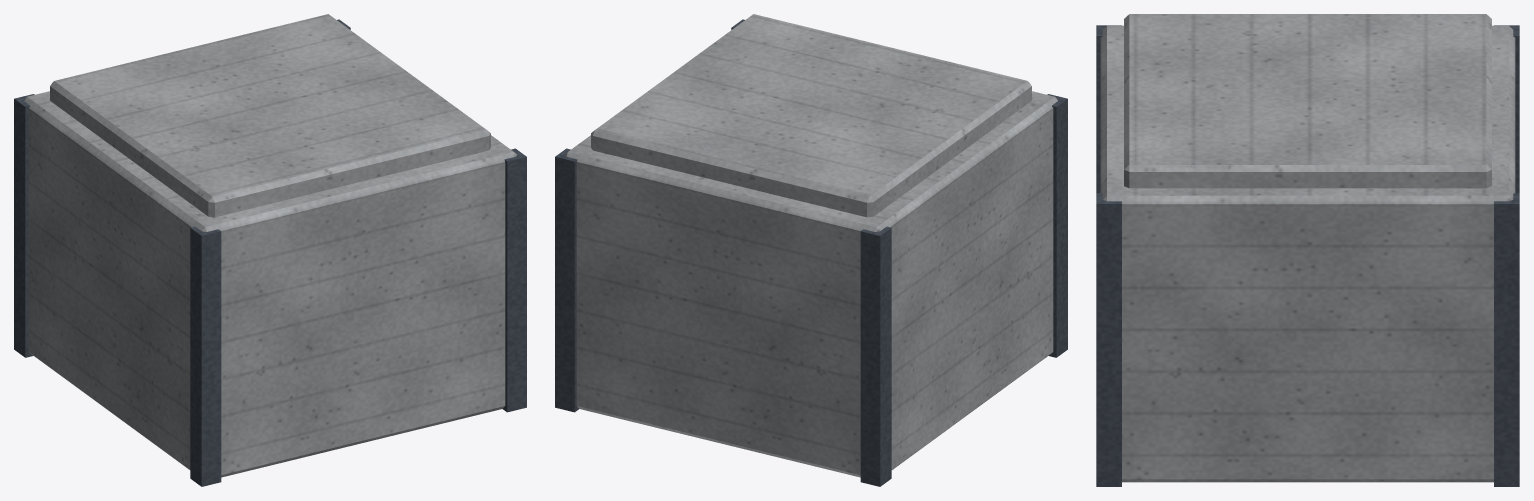
File: concrete.glb
The picture shows the model from 3 angles, left to right: view 1: azimuth 30°, elevation 25°; view 2: azimuth 150°, elevation 25°; view 3: azimuth 270°, elevation 25°; orthographic projection. The views are drawn at different scales.
Parts seen in each view (by area): view 1: CONCRETE_HP_4, CONCRETE_C_HP_3, CONCRETE_L_HP_1, CONCRETE_HP_2, CONCRETE_HP_3, CONCRETE_O_HP_2, CONCRETE_HP_1, CONCRETE_L_HP_2, CONCRETE_C_HP_1, CONCRETE_C_HP_2, CONCRETE_O_HP_1; view 2: CONCRETE_HP_4, CONCRETE_L_HP_1, CONCRETE_HP_2, CONCRETE_O_HP_2, CONCRETE_C_HP_1, CONCRETE_HP_3, CONCRETE_L_HP_2, CONCRETE_C_HP_3, CONCRETE_HP_1, CONCRETE_O_HP_1, CONCRETE_C_HP_2; view 3: CONCRETE_HP_4, CONCRETE_HP_3, CONCRETE_HP_2, CONCRETE_L_HP_2, CONCRETE_C_HP_3, CONCRETE_O_HP_2, CONCRETE_HP_1, CONCRETE_L_HP_1, CONCRETE_O_HP_1, CONCRETE_C_HP_1, CONCRETE_C_HP_2.
Part boxes in pixels (x1=…): CONCRETE_HP_4: x1=14, y1=14, x2=526, y2=486; CONCRETE_C_HP_3: x1=206, y1=16, x2=490, y2=473; CONCRETE_L_HP_1: x1=28, y1=45, x2=271, y2=485; CONCRETE_HP_2: x1=24, y1=14, x2=526, y2=486; CONCRETE_HP_3: x1=206, y1=16, x2=526, y2=474; CONCRETE_O_HP_2: x1=14, y1=16, x2=483, y2=469; CONCRETE_HP_1: x1=25, y1=15, x2=363, y2=440; CONCRETE_L_HP_2: x1=65, y1=15, x2=526, y2=473; CONCRETE_C_HP_1: x1=28, y1=14, x2=350, y2=483; CONCRETE_C_HP_2: x1=207, y1=15, x2=370, y2=476; CONCRETE_O_HP_1: x1=14, y1=31, x2=410, y2=467; CONCRETE_HP_4: x1=555, y1=14, x2=1067, y2=486; CONCRETE_L_HP_1: x1=555, y1=102, x2=1067, y2=473; CONCRETE_HP_2: x1=569, y1=68, x2=1067, y2=467; CONCRETE_O_HP_2: x1=568, y1=19, x2=1053, y2=486; CONCRETE_C_HP_1: x1=555, y1=90, x2=1067, y2=474; CONCRETE_HP_3: x1=596, y1=14, x2=1052, y2=129; CONCRETE_L_HP_2: x1=555, y1=16, x2=1026, y2=467; CONCRETE_C_HP_3: x1=571, y1=41, x2=1044, y2=150; CONCRETE_HP_1: x1=574, y1=120, x2=995, y2=468; CONCRETE_O_HP_1: x1=555, y1=67, x2=1053, y2=486; CONCRETE_C_HP_2: x1=578, y1=64, x2=1020, y2=148; CONCRETE_HP_4: x1=1096, y1=14, x2=1519, y2=486; CONCRETE_HP_3: x1=1101, y1=15, x2=1493, y2=479; CONCRETE_HP_2: x1=1096, y1=14, x2=1508, y2=486; CONCRETE_L_HP_2: x1=1096, y1=14, x2=1519, y2=486; CONCRETE_C_HP_3: x1=1100, y1=14, x2=1508, y2=482; CONCRETE_O_HP_2: x1=1122, y1=16, x2=1515, y2=468; CONCRETE_HP_1: x1=1331, y1=14, x2=1508, y2=482; CONCRETE_L_HP_1: x1=1096, y1=15, x2=1519, y2=486; CONCRETE_O_HP_1: x1=1109, y1=14, x2=1519, y2=486; CONCRETE_C_HP_1: x1=1107, y1=14, x2=1519, y2=486; CONCRETE_C_HP_2: x1=1100, y1=16, x2=1504, y2=481.
Bounding box in the file's own units: 1.98 × 1.65 × 1.98.
1 material, 1 textured.
